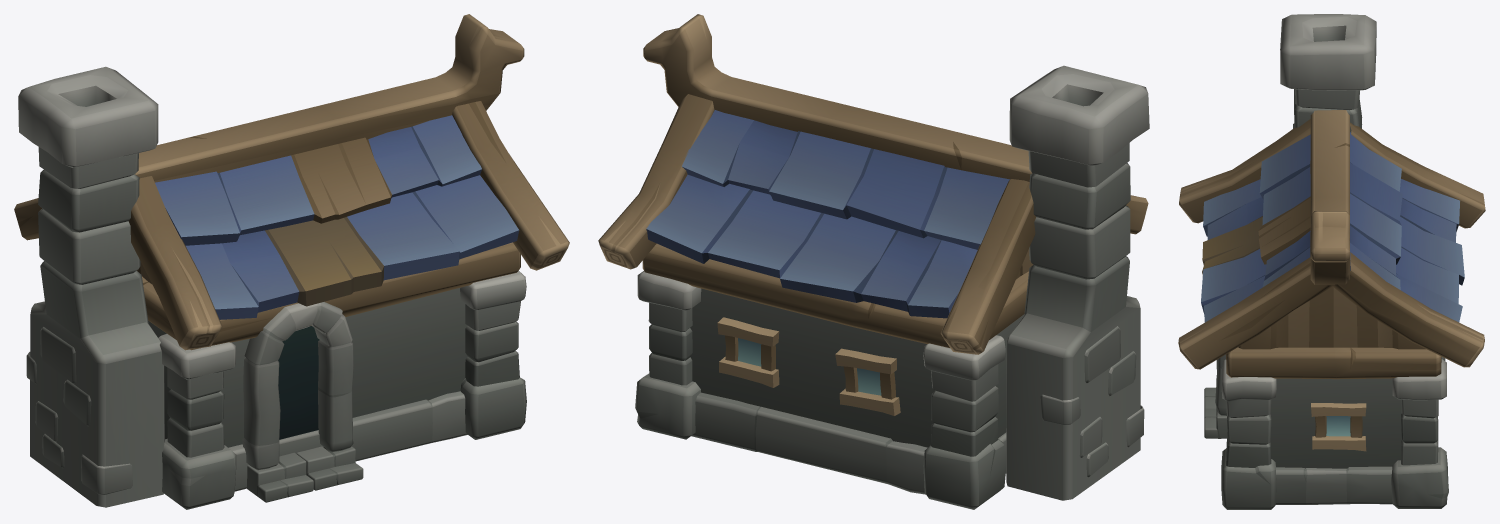
Rendered from woodcutter_building.fbx.
3 views of the same model, side by side, from view 1: azimuth 30°, elevation 25°; view 2: azimuth 150°, elevation 25°; view 3: azimuth 270°, elevation 25° (orthographic). The views are drawn at different scales.
Visible parts, largest first — view 1: woodcutter_building; view 2: woodcutter_building; view 3: woodcutter_building.
Boxes of the visible parts, x1=… form: woodcutter_building: x1=14, y1=14, x2=569, y2=509; woodcutter_building: x1=598, y1=14, x2=1149, y2=509; woodcutter_building: x1=1178, y1=14, x2=1485, y2=509.
Size of the model in its own units: 964 by 747 by 634.
